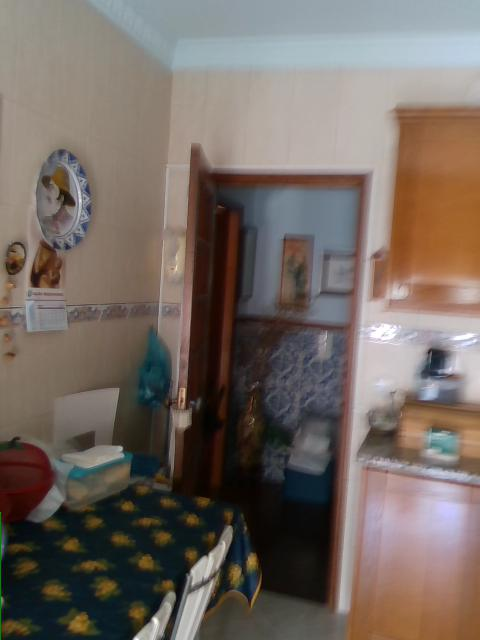open_door: (153, 168, 373, 615)
